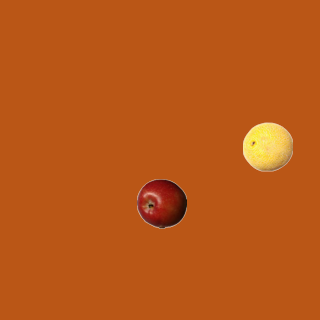Apple Braeburn: (136, 178, 186, 228)
Cantaloupe 1: (242, 121, 292, 171)
